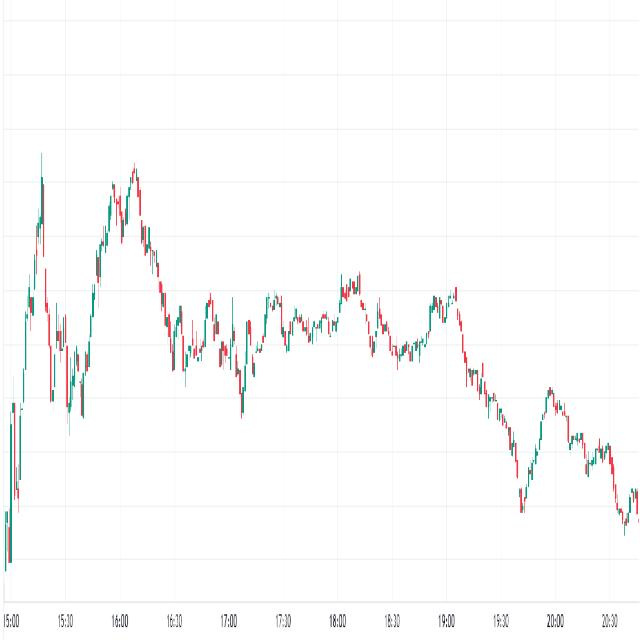Double-Top: (101, 160, 148, 270)
